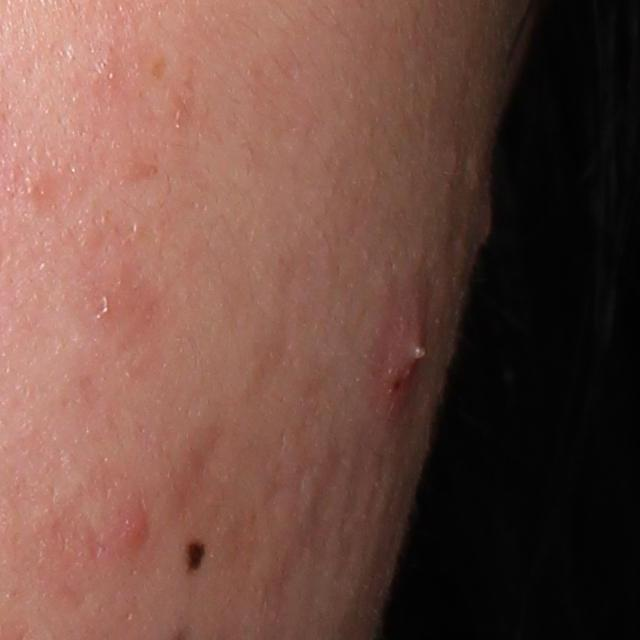papule: (120, 503, 149, 554)
